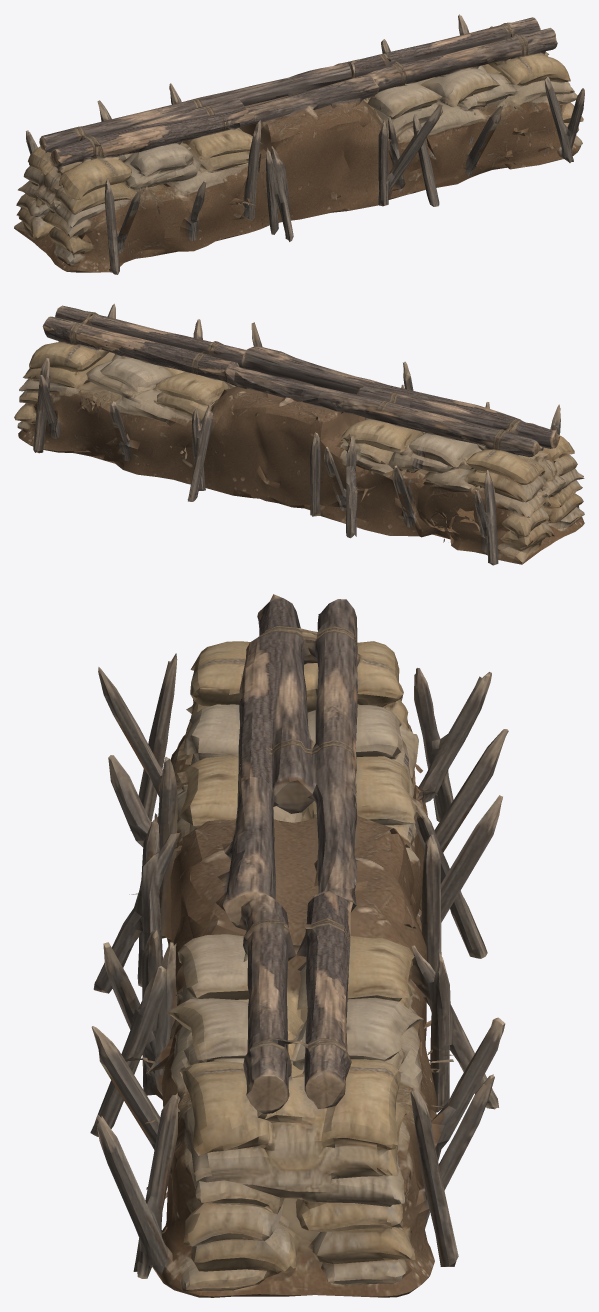
The model's file is parapeto-meshy.glb.
3 views of the same model, one above another, from view 1: azimuth 30°, elevation 25°; view 2: azimuth 150°, elevation 25°; view 3: azimuth 270°, elevation 25° (orthographic). The views are drawn at different scales.
Parts seen in each view (by area): view 1: Mesh0; view 2: Mesh0; view 3: Mesh0.
Boxes of the visible parts, x1,y1,x2,y2 form: Mesh0: (14, 14, 584, 274); Mesh0: (14, 303, 584, 565); Mesh0: (90, 594, 508, 1297).
Size of the model in its own units: 1.9 by 0.3885 by 0.6639.
1 material, 1 textured.
